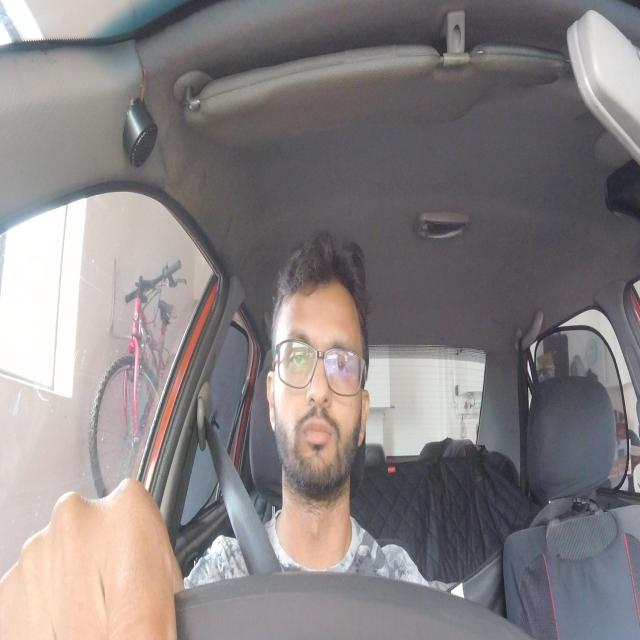open: (282, 325, 314, 384), (324, 334, 354, 388)
